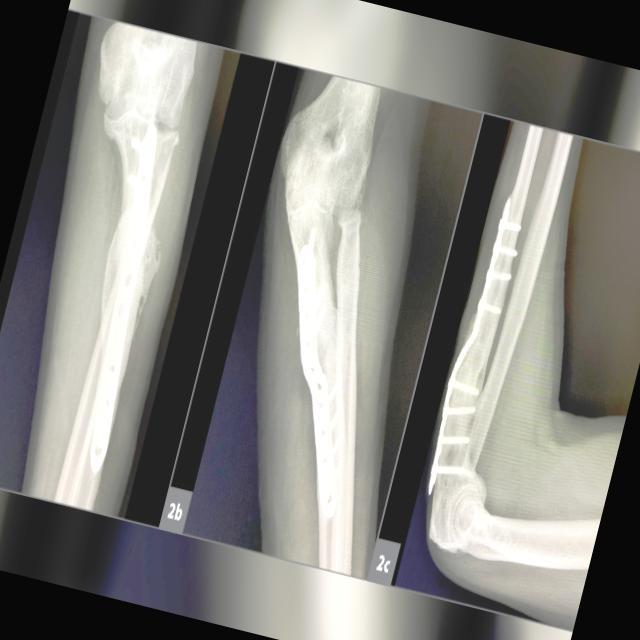Fracture Dislocation: (333, 185, 371, 232)
